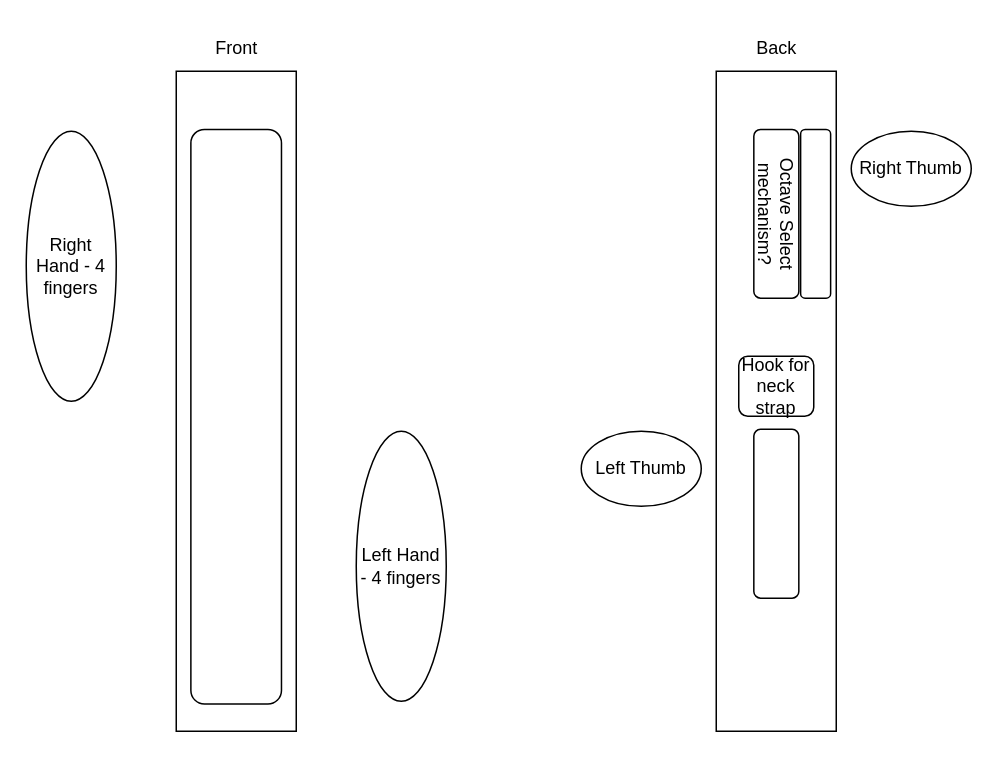
Image size: 998x758. Some labels were removed from this diagram. The shapes that lost their labels are listed below. From the top down, each one's centre as x and y in pixels, then its label:
At point (815, 213): "Capacitive ground?".
At point (235, 416): "Note selection keys".
At point (775, 513): "Pitch bend?".
